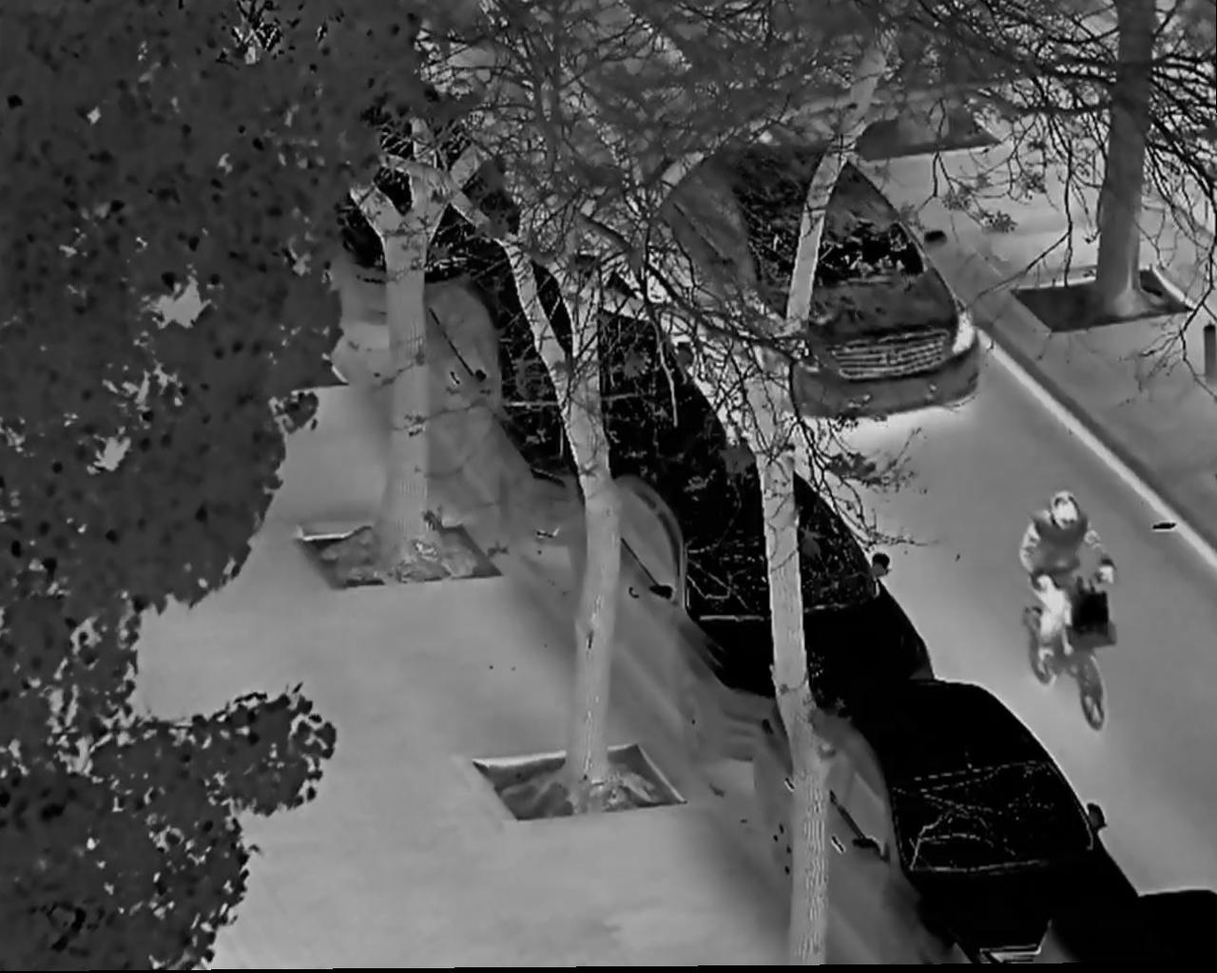person: (1017, 495, 1123, 660)
